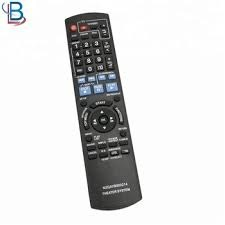remote control: (61, 14, 147, 213)
